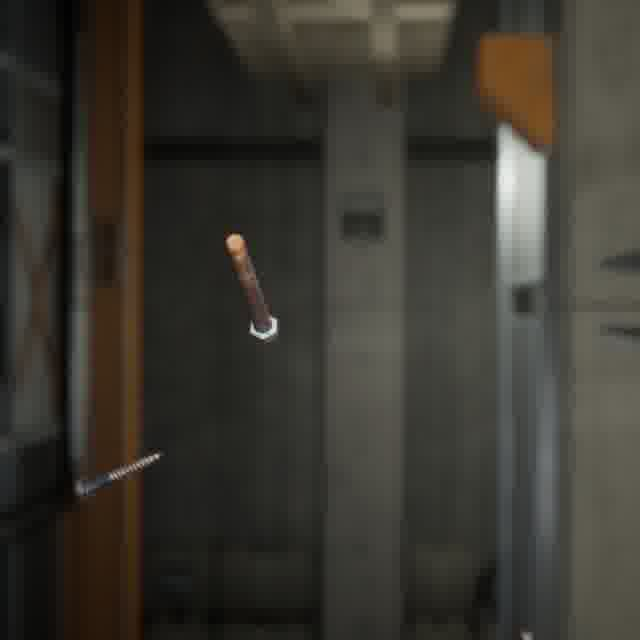bolt: (221, 229, 282, 348), (70, 447, 166, 505)
